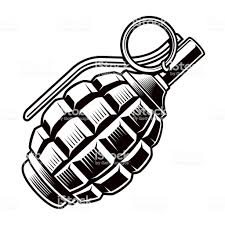e1: (22, 18, 205, 208)
